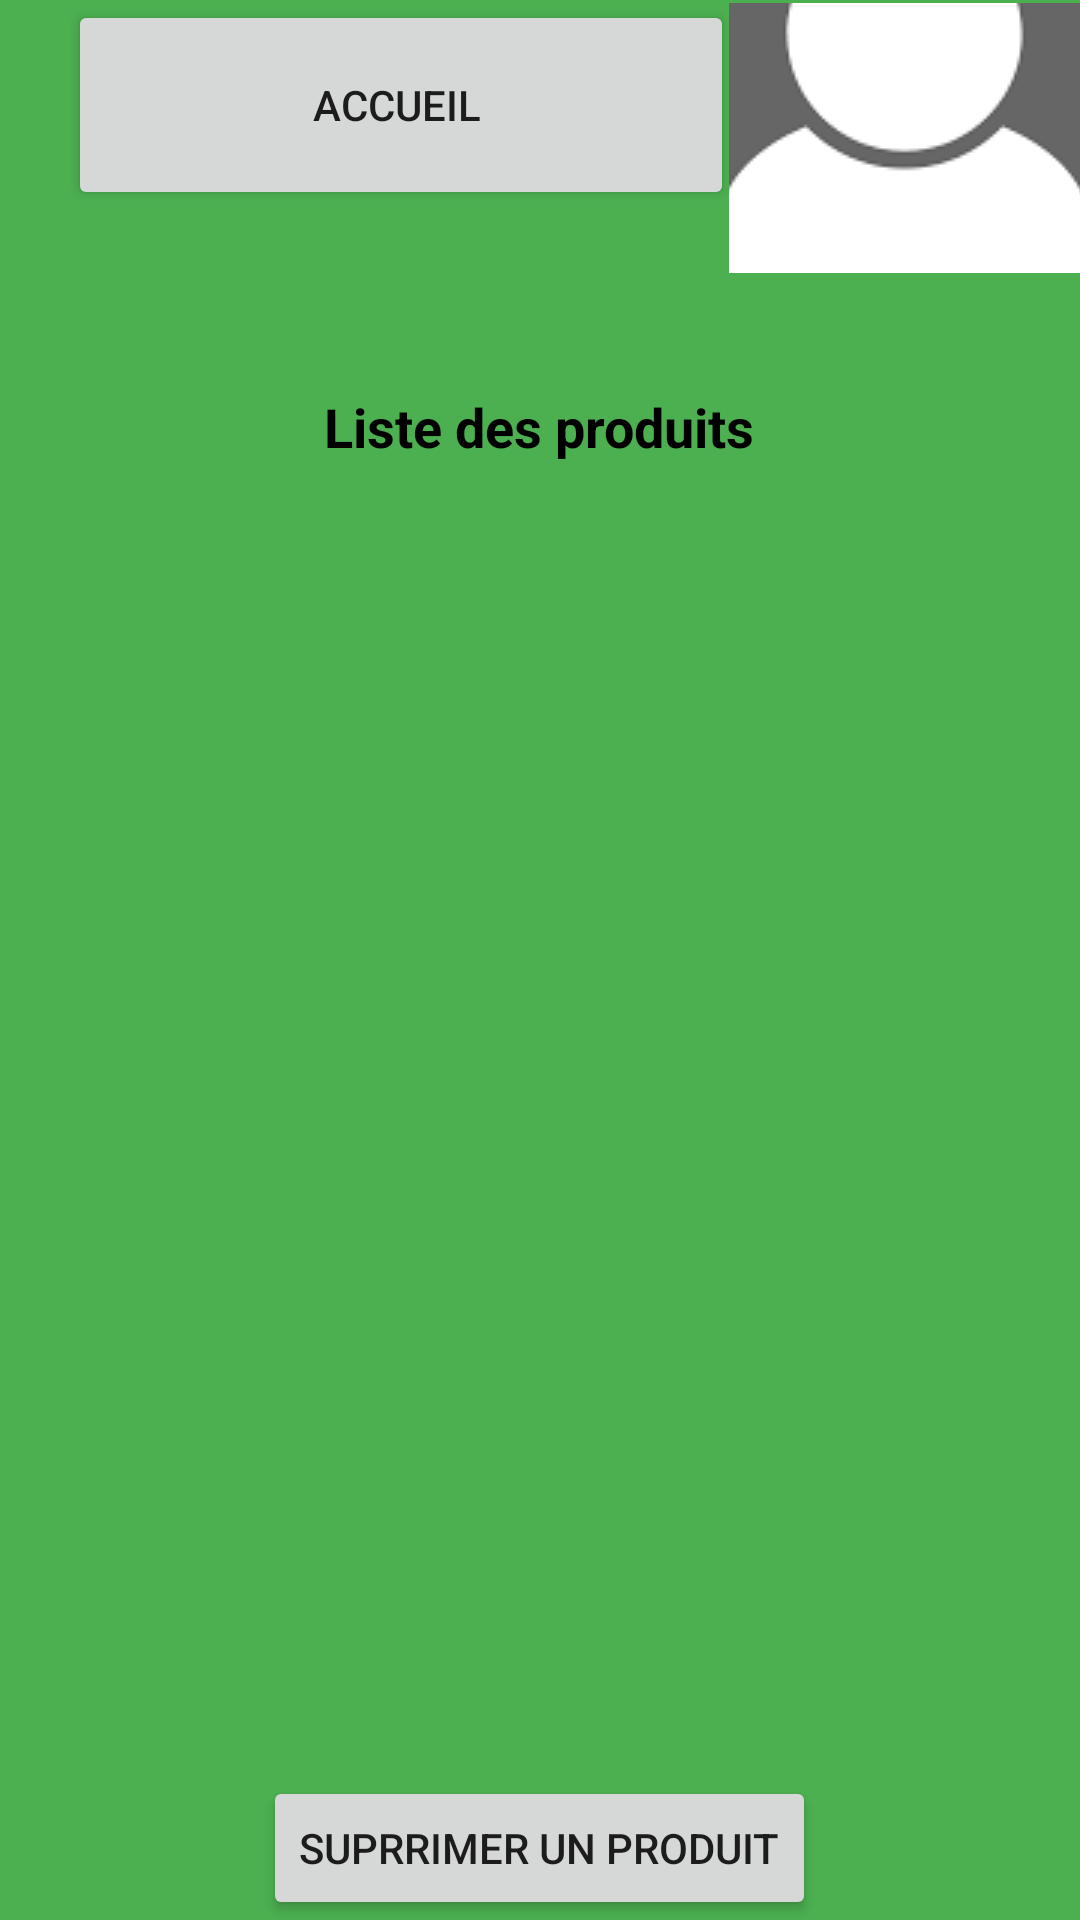

Icon bounding boxes for this 1080x1920 phone screenshot, format region(x1, y1, x2, y2):
compte: region(729, 3, 1080, 273)
